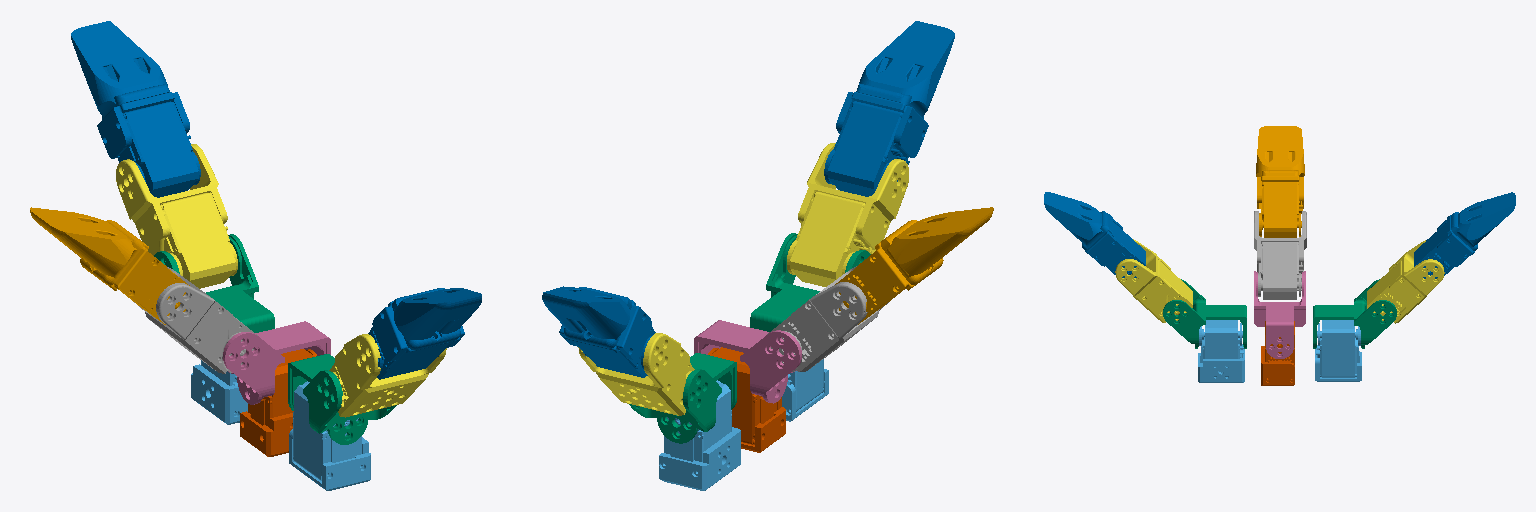
The robot description file, URDF, robot "dexremo_hand_no_sensor":
<?xml version="1.0"?>
<!-- DexRemo three-finger hand. Generated from the STEP assembly; see README for assumptions. -->
<robot name="dexremo_hand_no_sensor">
  <link name="base_link">
    <inertial><origin xyz="0.033405 0.000009 0.048806"/><mass value="1.18165"/><inertia ixx="2.098e-03" ixy="4.146e-06" ixz="-5.831e-04" iyy="8.608e-03" iyz="-4.166e-07" izz="9.446e-03"/></inertial>
    <visual><geometry><mesh filename="../meshes/dexremo_hand_no_sensor/visual/base_link.stl"/></geometry></visual>
    <collision><geometry><mesh filename="../meshes/dexremo_hand_no_sensor/collision/base_link_0.stl"/></geometry></collision>
    <collision><geometry><mesh filename="../meshes/dexremo_hand_no_sensor/collision/base_link_1.stl"/></geometry></collision>
    <collision><geometry><mesh filename="../meshes/dexremo_hand_no_sensor/collision/base_link_2.stl"/></geometry></collision>
    <collision><geometry><mesh filename="../meshes/dexremo_hand_no_sensor/collision/base_link_3.stl"/></geometry></collision>
    <collision><geometry><mesh filename="../meshes/dexremo_hand_no_sensor/collision/base_link_4.stl"/></geometry></collision>
    <collision><geometry><mesh filename="../meshes/dexremo_hand_no_sensor/collision/base_link_5.stl"/></geometry></collision>
    <collision><geometry><mesh filename="../meshes/dexremo_hand_no_sensor/collision/base_link_6.stl"/></geometry></collision>
    <collision><geometry><mesh filename="../meshes/dexremo_hand_no_sensor/collision/base_link_7.stl"/></geometry></collision>
    <collision><geometry><mesh filename="../meshes/dexremo_hand_no_sensor/collision/base_link_8.stl"/></geometry></collision>
    <collision><geometry><mesh filename="../meshes/dexremo_hand_no_sensor/collision/base_link_9.stl"/></geometry></collision>
    <collision><geometry><mesh filename="../meshes/dexremo_hand_no_sensor/collision/base_link_10.stl"/></geometry></collision>
  </link>
  <link name="left_cmc1_link">
    <inertial><origin xyz="-0.000829 -0.000130 0.042133"/><mass value="0.06543"/><inertia ixx="1.978e-05" ixy="-2.319e-08" ixz="-6.846e-07" iyy="1.667e-05" iyz="-1.726e-07" izz="1.071e-05"/></inertial>
    <visual><geometry><mesh filename="../meshes/dexremo_hand_no_sensor/visual/left_cmc1_link.stl"/></geometry></visual>
    <collision><geometry><mesh filename="../meshes/dexremo_hand_no_sensor/collision/left_cmc1_link_0.stl"/></geometry></collision>
    <collision><geometry><mesh filename="../meshes/dexremo_hand_no_sensor/collision/left_cmc1_link_1.stl"/></geometry></collision>
  </link>
  <joint name="left_cmc1" type="revolute"><parent link="base_link"/><child link="left_cmc1_link"/><origin xyz="-0.010908 0.049950 0.063442"/><axis xyz="0.000000 0.000000 -1.000000"/><limit lower="-1.5708" upper="1.5708" effort="1.90" velocity="4.70"/><dynamics damping="0.1"/></joint>
  <link name="left_cmc2_link">
    <inertial><origin xyz="-0.000127 0.013888 0.015825"/><mass value="0.01913"/><inertia ixx="9.806e-06" ixy="1.059e-07" ixz="4.325e-08" iyy="6.207e-06" iyz="-1.503e-06" izz="1.157e-05"/></inertial>
    <visual><geometry><mesh filename="../meshes/dexremo_hand_no_sensor/visual/left_cmc2_link.stl"/></geometry></visual>
    <collision><geometry><mesh filename="../meshes/dexremo_hand_no_sensor/collision/left_cmc2_link_0.stl"/></geometry></collision>
  </link>
  <joint name="left_cmc2" type="revolute"><parent link="left_cmc1_link"/><child link="left_cmc2_link"/><origin xyz="0.000000 -0.000100 0.058000"/><axis xyz="0.000000 -1.000000 0.000000"/><limit lower="-1.5708" upper="1.5708" effort="1.90" velocity="4.70"/><dynamics damping="0.1"/></joint>
  <link name="left_mcp_link">
    <inertial><origin xyz="-0.000258 0.013788 0.011813"/><mass value="0.07467"/><inertia ixx="2.426e-05" ixy="1.303e-08" ixz="-3.361e-08" iyy="2.189e-05" iyz="-7.499e-06" izz="2.261e-05"/></inertial>
    <visual><geometry><mesh filename="../meshes/dexremo_hand_no_sensor/visual/left_mcp_link.stl"/></geometry></visual>
    <collision><geometry><mesh filename="../meshes/dexremo_hand_no_sensor/collision/left_mcp_link_0.stl"/></geometry></collision>
    <collision><geometry><mesh filename="../meshes/dexremo_hand_no_sensor/collision/left_mcp_link_1.stl"/></geometry></collision>
  </link>
  <joint name="left_mcp" type="revolute"><parent link="left_cmc2_link"/><child link="left_mcp_link"/><origin xyz="0.000300 0.037800 0.030000"/><axis xyz="-1.000000 0.000000 0.000000"/><limit lower="-1.5708" upper="1.5708" effort="1.90" velocity="4.70"/><dynamics damping="0.1"/></joint>
  <link name="left_ip_link">
    <inertial><origin xyz="-0.000115 0.022438 0.020217"/><mass value="0.09666"/><inertia ixx="7.113e-05" ixy="-9.553e-08" ixz="-9.226e-08" iyy="4.047e-05" iyz="-2.494e-05" izz="5.267e-05"/></inertial>
    <visual><geometry><mesh filename="../meshes/dexremo_hand_no_sensor/visual/left_ip_link.stl"/></geometry></visual>
    <collision><geometry><mesh filename="../meshes/dexremo_hand_no_sensor/collision/left_ip_link_0.stl"/></geometry></collision>
    <collision><geometry><mesh filename="../meshes/dexremo_hand_no_sensor/collision/left_ip_link_1.stl"/></geometry></collision>
    <collision><geometry><mesh filename="../meshes/dexremo_hand_no_sensor/collision/left_ip_link_2.stl"/></geometry></collision>
  </link>
  <joint name="left_ip" type="revolute"><parent link="left_mcp_link"/><child link="left_ip_link"/><origin xyz="0.000200 0.040447 0.037618"/><axis xyz="-1.000000 0.000000 0.000000"/><limit lower="-1.5708" upper="1.5708" effort="1.90" velocity="4.70"/><dynamics damping="0.1"/></joint>
  <link name="mid_cmc1_link">
    <inertial><origin xyz="0.000130 -0.000829 0.042133"/><mass value="0.06543"/><inertia ixx="1.667e-05" ixy="2.319e-08" ixz="1.726e-07" iyy="1.978e-05" iyz="-6.846e-07" izz="1.071e-05"/></inertial>
    <visual><geometry><mesh filename="../meshes/dexremo_hand_no_sensor/visual/mid_cmc1_link.stl"/></geometry></visual>
    <collision><geometry><mesh filename="../meshes/dexremo_hand_no_sensor/collision/mid_cmc1_link_0.stl"/></geometry></collision>
    <collision><geometry><mesh filename="../meshes/dexremo_hand_no_sensor/collision/mid_cmc1_link_1.stl"/></geometry></collision>
  </link>
  <joint name="mid_cmc1" type="revolute"><parent link="base_link"/><child link="mid_cmc1_link"/><origin xyz="-0.009008 -0.000050 0.063442"/><axis xyz="0.000000 0.000000 -1.000000"/><limit lower="-1.5708" upper="1.5708" effort="1.90" velocity="4.70"/><dynamics damping="0.1"/></joint>
  <link name="mid_cmc2_link">
    <inertial><origin xyz="-0.013888 -0.000127 0.015825"/><mass value="0.01913"/><inertia ixx="6.207e-06" ixy="-1.059e-07" ixz="1.503e-06" iyy="9.806e-06" iyz="4.325e-08" izz="1.157e-05"/></inertial>
    <visual><geometry><mesh filename="../meshes/dexremo_hand_no_sensor/visual/mid_cmc2_link.stl"/></geometry></visual>
    <collision><geometry><mesh filename="../meshes/dexremo_hand_no_sensor/collision/mid_cmc2_link_0.stl"/></geometry></collision>
  </link>
  <joint name="mid_cmc2" type="revolute"><parent link="mid_cmc1_link"/><child link="mid_cmc2_link"/><origin xyz="0.000100 0.000000 0.058000"/><axis xyz="1.000000 0.000000 0.000000"/><limit lower="-1.5708" upper="1.5708" effort="1.90" velocity="4.70"/><dynamics damping="0.1"/></joint>
  <link name="mid_mcp_link">
    <inertial><origin xyz="-0.013788 -0.000258 0.011813"/><mass value="0.07467"/><inertia ixx="2.189e-05" ixy="-1.303e-08" ixz="7.499e-06" iyy="2.426e-05" iyz="-3.361e-08" izz="2.261e-05"/></inertial>
    <visual><geometry><mesh filename="../meshes/dexremo_hand_no_sensor/visual/mid_mcp_link.stl"/></geometry></visual>
    <collision><geometry><mesh filename="../meshes/dexremo_hand_no_sensor/collision/mid_mcp_link_0.stl"/></geometry></collision>
    <collision><geometry><mesh filename="../meshes/dexremo_hand_no_sensor/collision/mid_mcp_link_1.stl"/></geometry></collision>
  </link>
  <joint name="mid_mcp" type="revolute"><parent link="mid_cmc2_link"/><child link="mid_mcp_link"/><origin xyz="-0.037800 0.000300 0.030000"/><axis xyz="0.000000 -1.000000 0.000000"/><limit lower="-1.5708" upper="1.5708" effort="1.90" velocity="4.70"/><dynamics damping="0.1"/></joint>
  <link name="mid_ip_link">
    <inertial><origin xyz="-0.022900 -0.000115 0.020593"/><mass value="0.09871"/><inertia ixx="4.173e-05" ixy="9.621e-08" ixz="2.574e-05" iyy="7.361e-05" iyz="-9.282e-08" izz="5.449e-05"/></inertial>
    <visual><geometry><mesh filename="../meshes/dexremo_hand_no_sensor/visual/mid_ip_link.stl"/></geometry></visual>
    <collision><geometry><mesh filename="../meshes/dexremo_hand_no_sensor/collision/mid_ip_link_0.stl"/></geometry></collision>
    <collision><geometry><mesh filename="../meshes/dexremo_hand_no_sensor/collision/mid_ip_link_1.stl"/></geometry></collision>
    <collision><geometry><mesh filename="../meshes/dexremo_hand_no_sensor/collision/mid_ip_link_2.stl"/></geometry></collision>
  </link>
  <joint name="mid_ip" type="revolute"><parent link="mid_mcp_link"/><child link="mid_ip_link"/><origin xyz="-0.040447 0.000200 0.037618"/><axis xyz="0.000000 -1.000000 0.000000"/><limit lower="-1.5708" upper="1.5708" effort="1.90" velocity="4.70"/><dynamics damping="0.1"/></joint>
  <link name="right_cmc1_link">
    <inertial><origin xyz="0.000829 0.000130 0.042133"/><mass value="0.06543"/><inertia ixx="1.978e-05" ixy="-2.319e-08" ixz="6.846e-07" iyy="1.667e-05" iyz="1.726e-07" izz="1.071e-05"/></inertial>
    <visual><geometry><mesh filename="../meshes/dexremo_hand_no_sensor/visual/right_cmc1_link.stl"/></geometry></visual>
    <collision><geometry><mesh filename="../meshes/dexremo_hand_no_sensor/collision/right_cmc1_link_0.stl"/></geometry></collision>
    <collision><geometry><mesh filename="../meshes/dexremo_hand_no_sensor/collision/right_cmc1_link_1.stl"/></geometry></collision>
  </link>
  <joint name="right_cmc1" type="revolute"><parent link="base_link"/><child link="right_cmc1_link"/><origin xyz="-0.011008 -0.050050 0.063642"/><axis xyz="0.000000 0.000000 -1.000000"/><limit lower="-1.5708" upper="1.5708" effort="1.90" velocity="4.70"/><dynamics damping="0.1"/></joint>
  <link name="right_cmc2_link">
    <inertial><origin xyz="0.000127 -0.013888 0.015825"/><mass value="0.01913"/><inertia ixx="9.806e-06" ixy="1.059e-07" ixz="-4.325e-08" iyy="6.207e-06" iyz="1.503e-06" izz="1.157e-05"/></inertial>
    <visual><geometry><mesh filename="../meshes/dexremo_hand_no_sensor/visual/right_cmc2_link.stl"/></geometry></visual>
    <collision><geometry><mesh filename="../meshes/dexremo_hand_no_sensor/collision/right_cmc2_link_0.stl"/></geometry></collision>
  </link>
  <joint name="right_cmc2" type="revolute"><parent link="right_cmc1_link"/><child link="right_cmc2_link"/><origin xyz="0.000000 0.000100 0.058000"/><axis xyz="0.000000 1.000000 0.000000"/><limit lower="-1.5708" upper="1.5708" effort="1.90" velocity="4.70"/><dynamics damping="0.1"/></joint>
  <link name="right_mcp_link">
    <inertial><origin xyz="0.000258 -0.013788 0.011813"/><mass value="0.07467"/><inertia ixx="2.426e-05" ixy="1.303e-08" ixz="3.361e-08" iyy="2.189e-05" iyz="7.499e-06" izz="2.261e-05"/></inertial>
    <visual><geometry><mesh filename="../meshes/dexremo_hand_no_sensor/visual/right_mcp_link.stl"/></geometry></visual>
    <collision><geometry><mesh filename="../meshes/dexremo_hand_no_sensor/collision/right_mcp_link_0.stl"/></geometry></collision>
    <collision><geometry><mesh filename="../meshes/dexremo_hand_no_sensor/collision/right_mcp_link_1.stl"/></geometry></collision>
  </link>
  <joint name="right_mcp" type="revolute"><parent link="right_cmc2_link"/><child link="right_mcp_link"/><origin xyz="-0.000300 -0.037800 0.030000"/><axis xyz="1.000000 0.000000 0.000000"/><limit lower="-1.5708" upper="1.5708" effort="1.90" velocity="4.70"/><dynamics damping="0.1"/></joint>
  <link name="right_ip_link">
    <inertial><origin xyz="0.000115 -0.022438 0.020217"/><mass value="0.09666"/><inertia ixx="7.113e-05" ixy="-9.553e-08" ixz="9.226e-08" iyy="4.047e-05" iyz="2.494e-05" izz="5.267e-05"/></inertial>
    <visual><geometry><mesh filename="../meshes/dexremo_hand_no_sensor/visual/right_ip_link.stl"/></geometry></visual>
    <collision><geometry><mesh filename="../meshes/dexremo_hand_no_sensor/collision/right_ip_link_0.stl"/></geometry></collision>
    <collision><geometry><mesh filename="../meshes/dexremo_hand_no_sensor/collision/right_ip_link_1.stl"/></geometry></collision>
    <collision><geometry><mesh filename="../meshes/dexremo_hand_no_sensor/collision/right_ip_link_2.stl"/></geometry></collision>
  </link>
  <joint name="right_ip" type="revolute"><parent link="right_mcp_link"/><child link="right_ip_link"/><origin xyz="-0.000200 -0.040447 0.037618"/><axis xyz="1.000000 0.000000 0.000000"/><limit lower="-1.5708" upper="1.5708" effort="1.90" velocity="4.70"/><dynamics damping="0.1"/></joint>
</robot>

--- Facts derived from the render (not from the file) ---
3 views of the same robot in one strip: view 1: azimuth 30°, elevation 25°; view 2: azimuth 150°, elevation 25°; view 3: azimuth 270°, elevation 25° (orthographic).
Model dexremo_hand_no_sensor with 13 links and 12 joints (12 revolute), rooted at base_link, posed all joints at 0.
Visible links, largest first — view 1: left_ip_link, left_mcp_link, mid_ip_link, right_ip_link, mid_mcp_link, mid_cmc2_link, right_cmc1_link, right_mcp_link, right_cmc2_link, mid_cmc1_link, left_cmc2_link, left_cmc1_link; view 2: right_ip_link, right_mcp_link, mid_ip_link, left_ip_link, mid_mcp_link, left_cmc1_link, mid_cmc2_link, left_mcp_link, left_cmc2_link, mid_cmc1_link, right_cmc2_link, right_cmc1_link; view 3: mid_ip_link, right_ip_link, left_ip_link, mid_mcp_link, right_mcp_link, left_mcp_link, right_cmc1_link, left_cmc1_link, mid_cmc2_link, left_cmc2_link, right_cmc2_link, mid_cmc1_link.
Boxes of the visible links, x1,y1,x2,y2 form: left_ip_link: [71, 21, 200, 197]; left_mcp_link: [116, 144, 237, 288]; mid_ip_link: [30, 207, 189, 324]; right_ip_link: [368, 288, 481, 379]; mid_mcp_link: [134, 267, 257, 373]; mid_cmc2_link: [223, 321, 330, 404]; right_cmc1_link: [289, 381, 370, 490]; right_mcp_link: [329, 334, 446, 417]; right_cmc2_link: [288, 354, 396, 444]; mid_cmc1_link: [240, 349, 316, 456]; left_cmc2_link: [154, 234, 274, 332]; left_cmc1_link: [191, 360, 247, 424]; right_ip_link: [824, 21, 954, 196]; right_mcp_link: [787, 143, 908, 286]; mid_ip_link: [835, 207, 993, 324]; left_ip_link: [542, 286, 655, 377]; mid_mcp_link: [767, 266, 888, 371]; left_cmc1_link: [659, 380, 740, 490]; mid_cmc2_link: [694, 320, 801, 403]; left_mcp_link: [578, 333, 694, 415]; left_cmc2_link: [629, 353, 736, 443]; mid_cmc1_link: [708, 347, 785, 452]; right_cmc2_link: [750, 233, 870, 331]; right_cmc1_link: [782, 359, 828, 421]; mid_ip_link: [1256, 126, 1304, 237]; right_ip_link: [1044, 192, 1145, 277]; left_ip_link: [1414, 192, 1515, 278]; mid_mcp_link: [1254, 211, 1306, 299]; right_mcp_link: [1115, 239, 1192, 322]; left_mcp_link: [1367, 240, 1444, 323]; right_cmc1_link: [1198, 320, 1244, 382]; left_cmc1_link: [1315, 320, 1361, 381]; mid_cmc2_link: [1254, 271, 1305, 358]; left_cmc2_link: [1313, 279, 1396, 348]; right_cmc2_link: [1163, 279, 1246, 348]; mid_cmc1_link: [1261, 321, 1294, 385].
Size in the robot's own frame: 0.1729 by 0.4012 by 0.1667 metres.
Meshes: 13 distinct files referenced, 12 mesh visuals loaded (12 binary STL); not drawn: 1 (reference not matched to a file when rendering).
